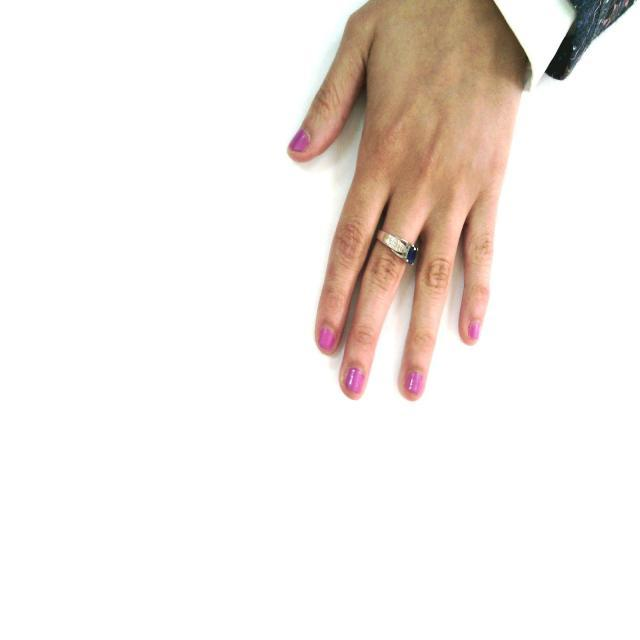Fingernail: (345, 368, 364, 394), (406, 371, 423, 395), (290, 130, 309, 151), (319, 327, 335, 351), (469, 321, 480, 340)
